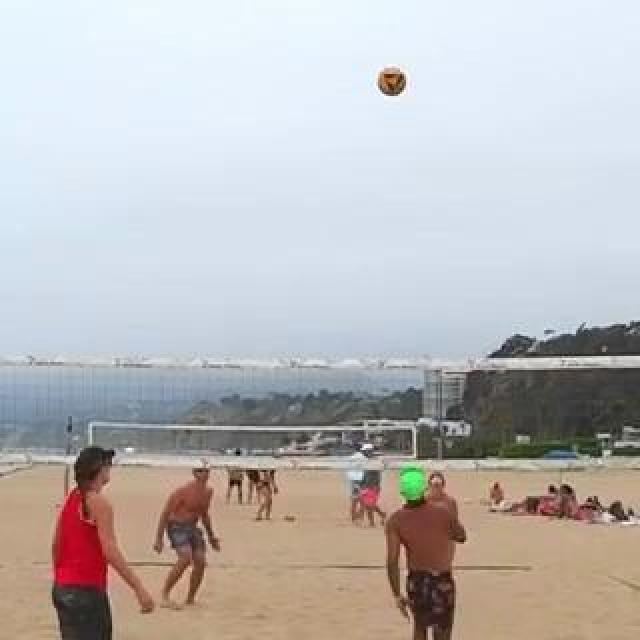volleyball: (378, 66, 410, 98), (284, 513, 296, 523)
